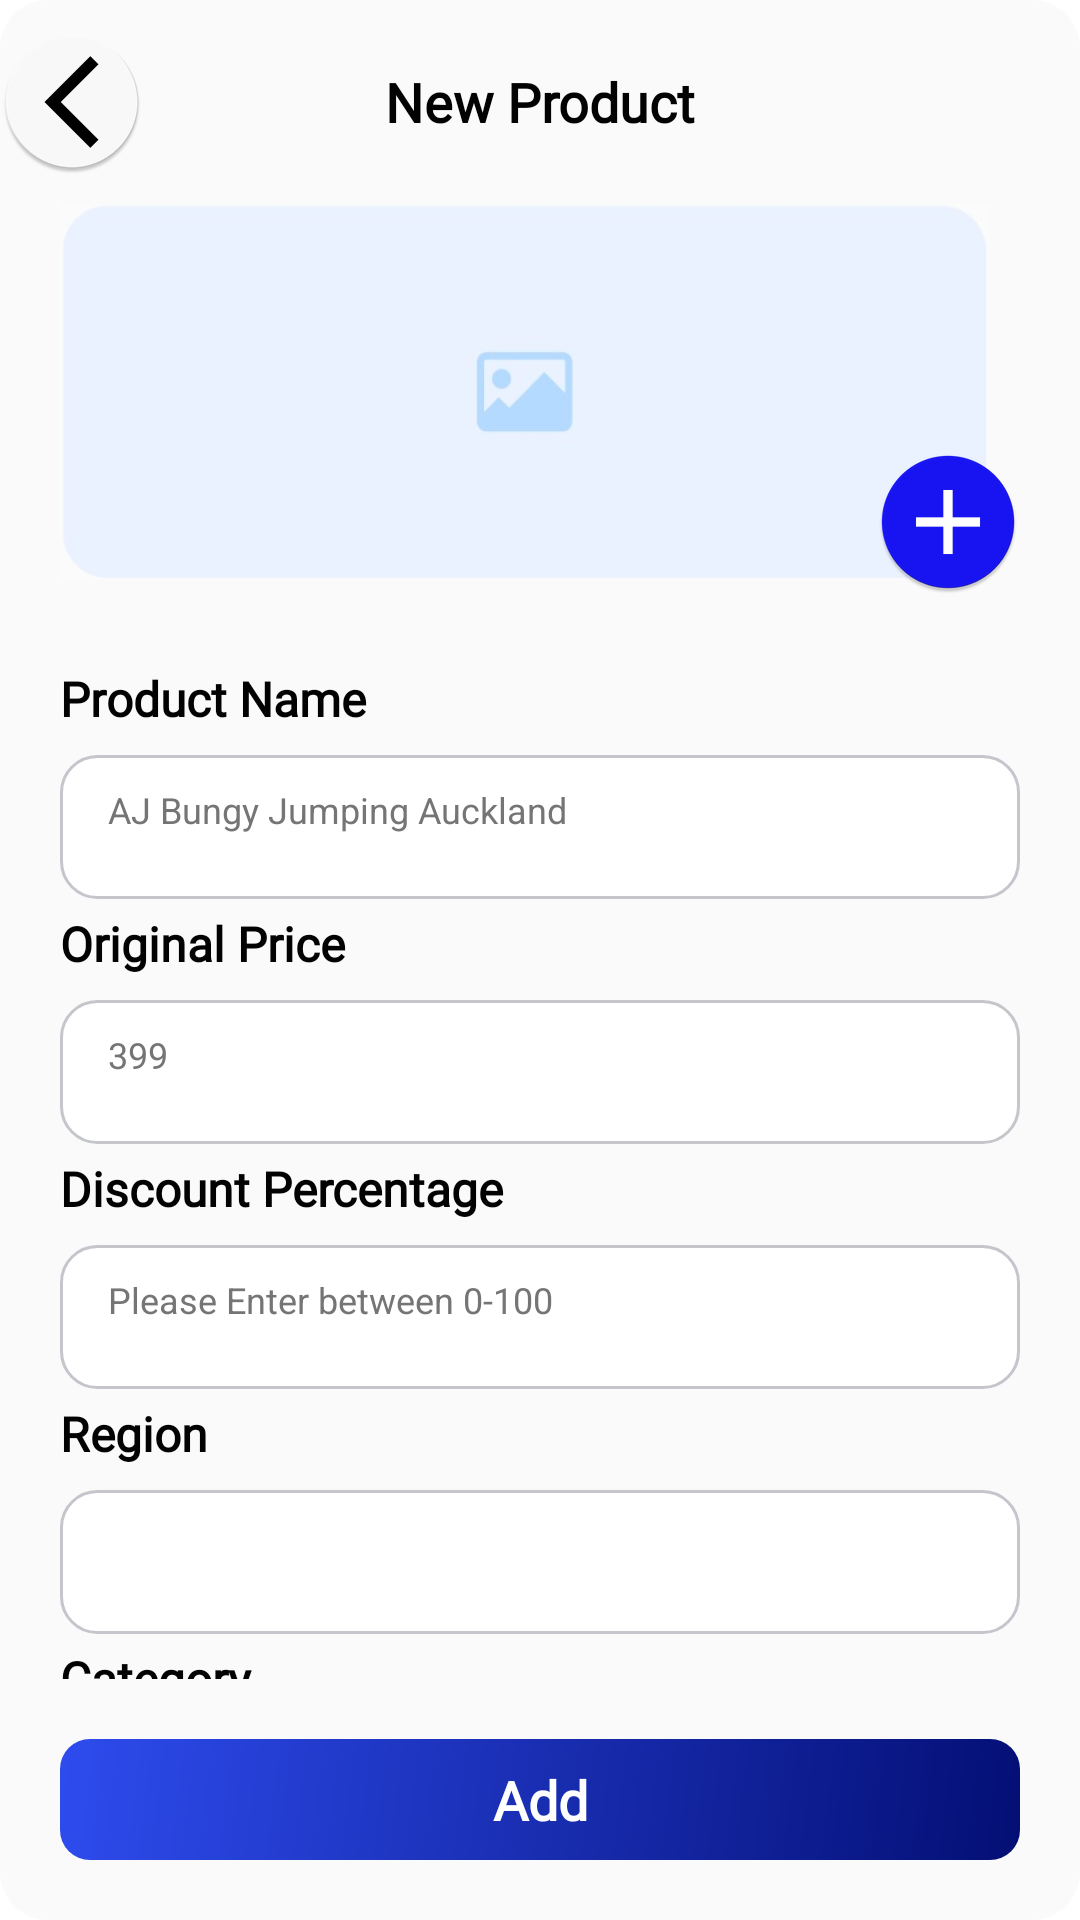

Where to tap for icons on this 1080 x 1920 app screen, as (x=x, y=y):
add bule: (x=947, y=523)
Back: (x=72, y=114)
